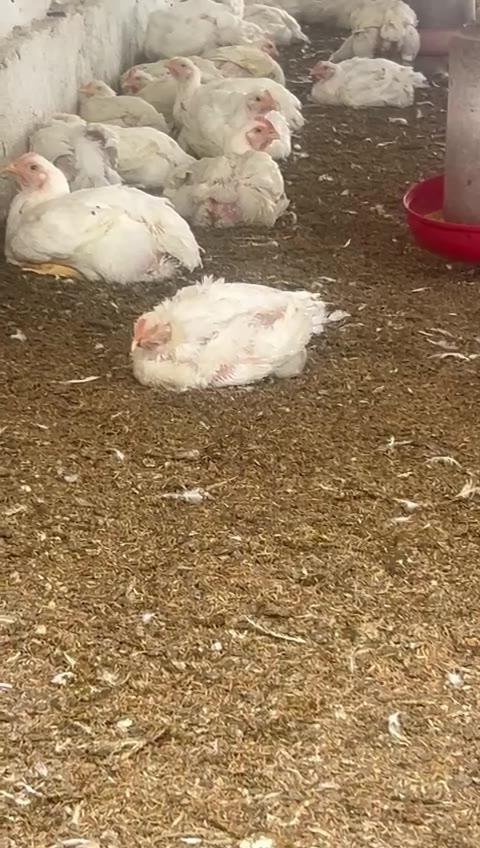AbNormal: (4, 154, 203, 278), (130, 280, 324, 389), (166, 116, 285, 215), (306, 60, 416, 107)
